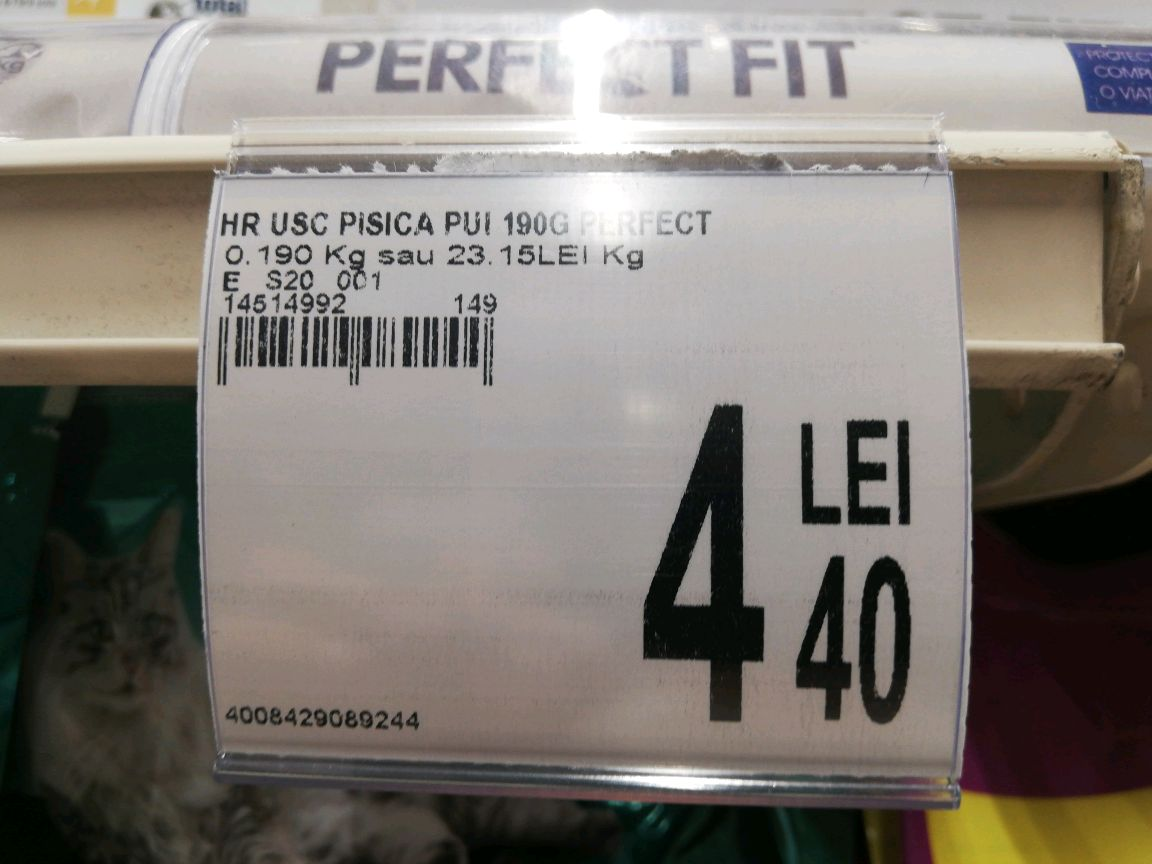price_bani: (782, 543, 929, 733)
price_lei: (634, 395, 774, 731)
price_tag: (194, 157, 976, 796)
product_id: (219, 698, 438, 738)
product_name: (211, 198, 718, 240)
